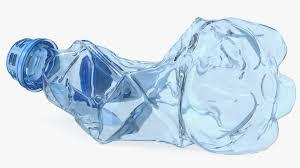plastic: (11, 21, 281, 153)
